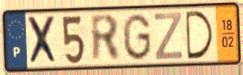5: (60, 13, 87, 65)
D: (183, 10, 216, 62)
G: (121, 12, 153, 62)
R: (89, 13, 123, 65)
X: (25, 14, 60, 67)
Z: (153, 11, 184, 62)
